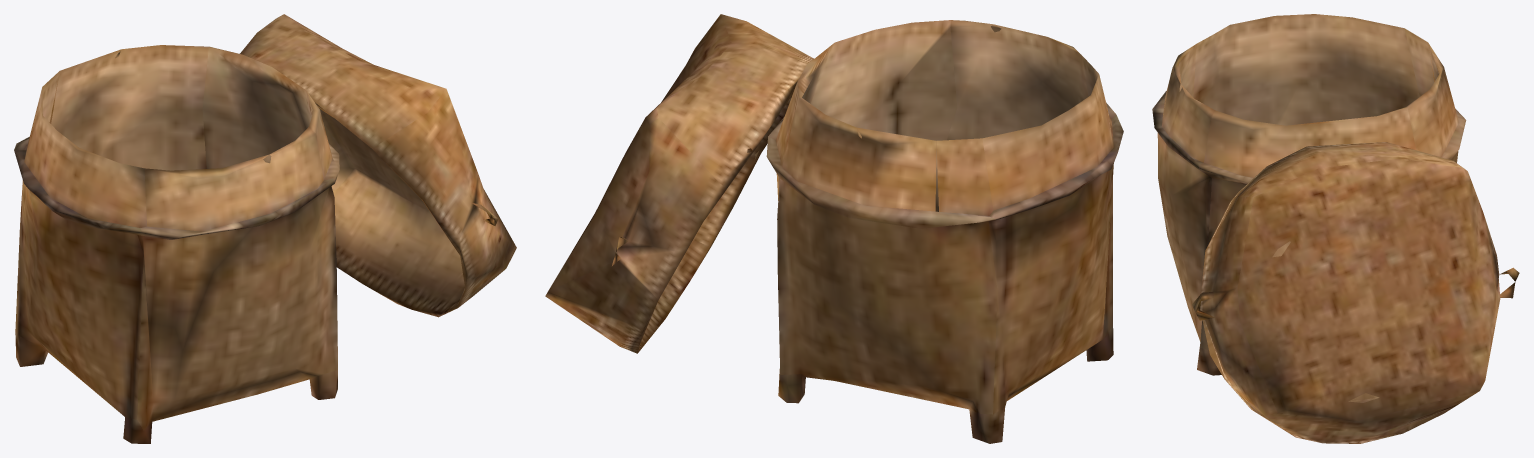
The model's file is hamper.glb.
The picture shows the model from 3 angles, left to right: view 1: azimuth 30°, elevation 25°; view 2: azimuth 150°, elevation 25°; view 3: azimuth 270°, elevation 25°; orthographic projection. The views are drawn at different scales.
Parts seen in each view (by area): view 1: wicker_basket_02_base; view 2: wicker_basket_02_base; view 3: wicker_basket_02_base.
Boxes of the visible parts, x1,y1,x2,y2 form: wicker_basket_02_base: [14, 14, 516, 443]; wicker_basket_02_base: [545, 14, 1123, 443]; wicker_basket_02_base: [1152, 14, 1519, 443].
Bounding box in the file's own units: 0.3444 × 0.1999 × 0.2523.
1 material, 1 textured.
